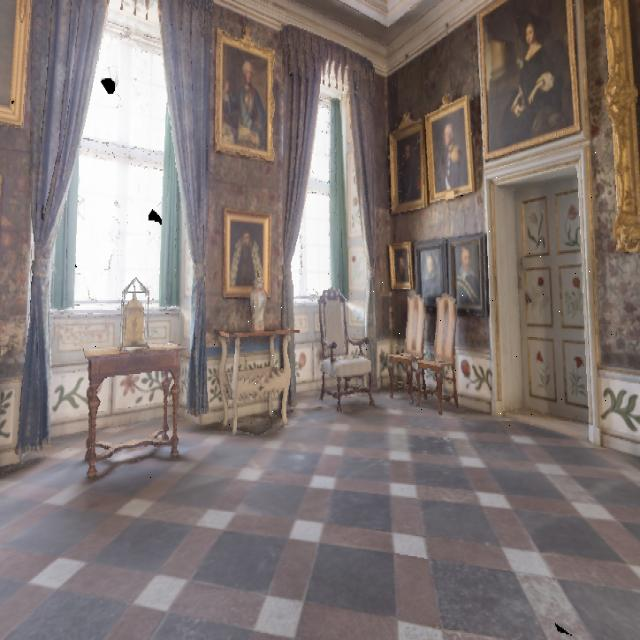chair: (312, 285, 378, 418), (416, 286, 470, 416), (381, 282, 426, 406)
door: (514, 172, 588, 422)
door-frame: (484, 139, 612, 453)
table: (72, 322, 194, 486), (204, 303, 307, 441)
